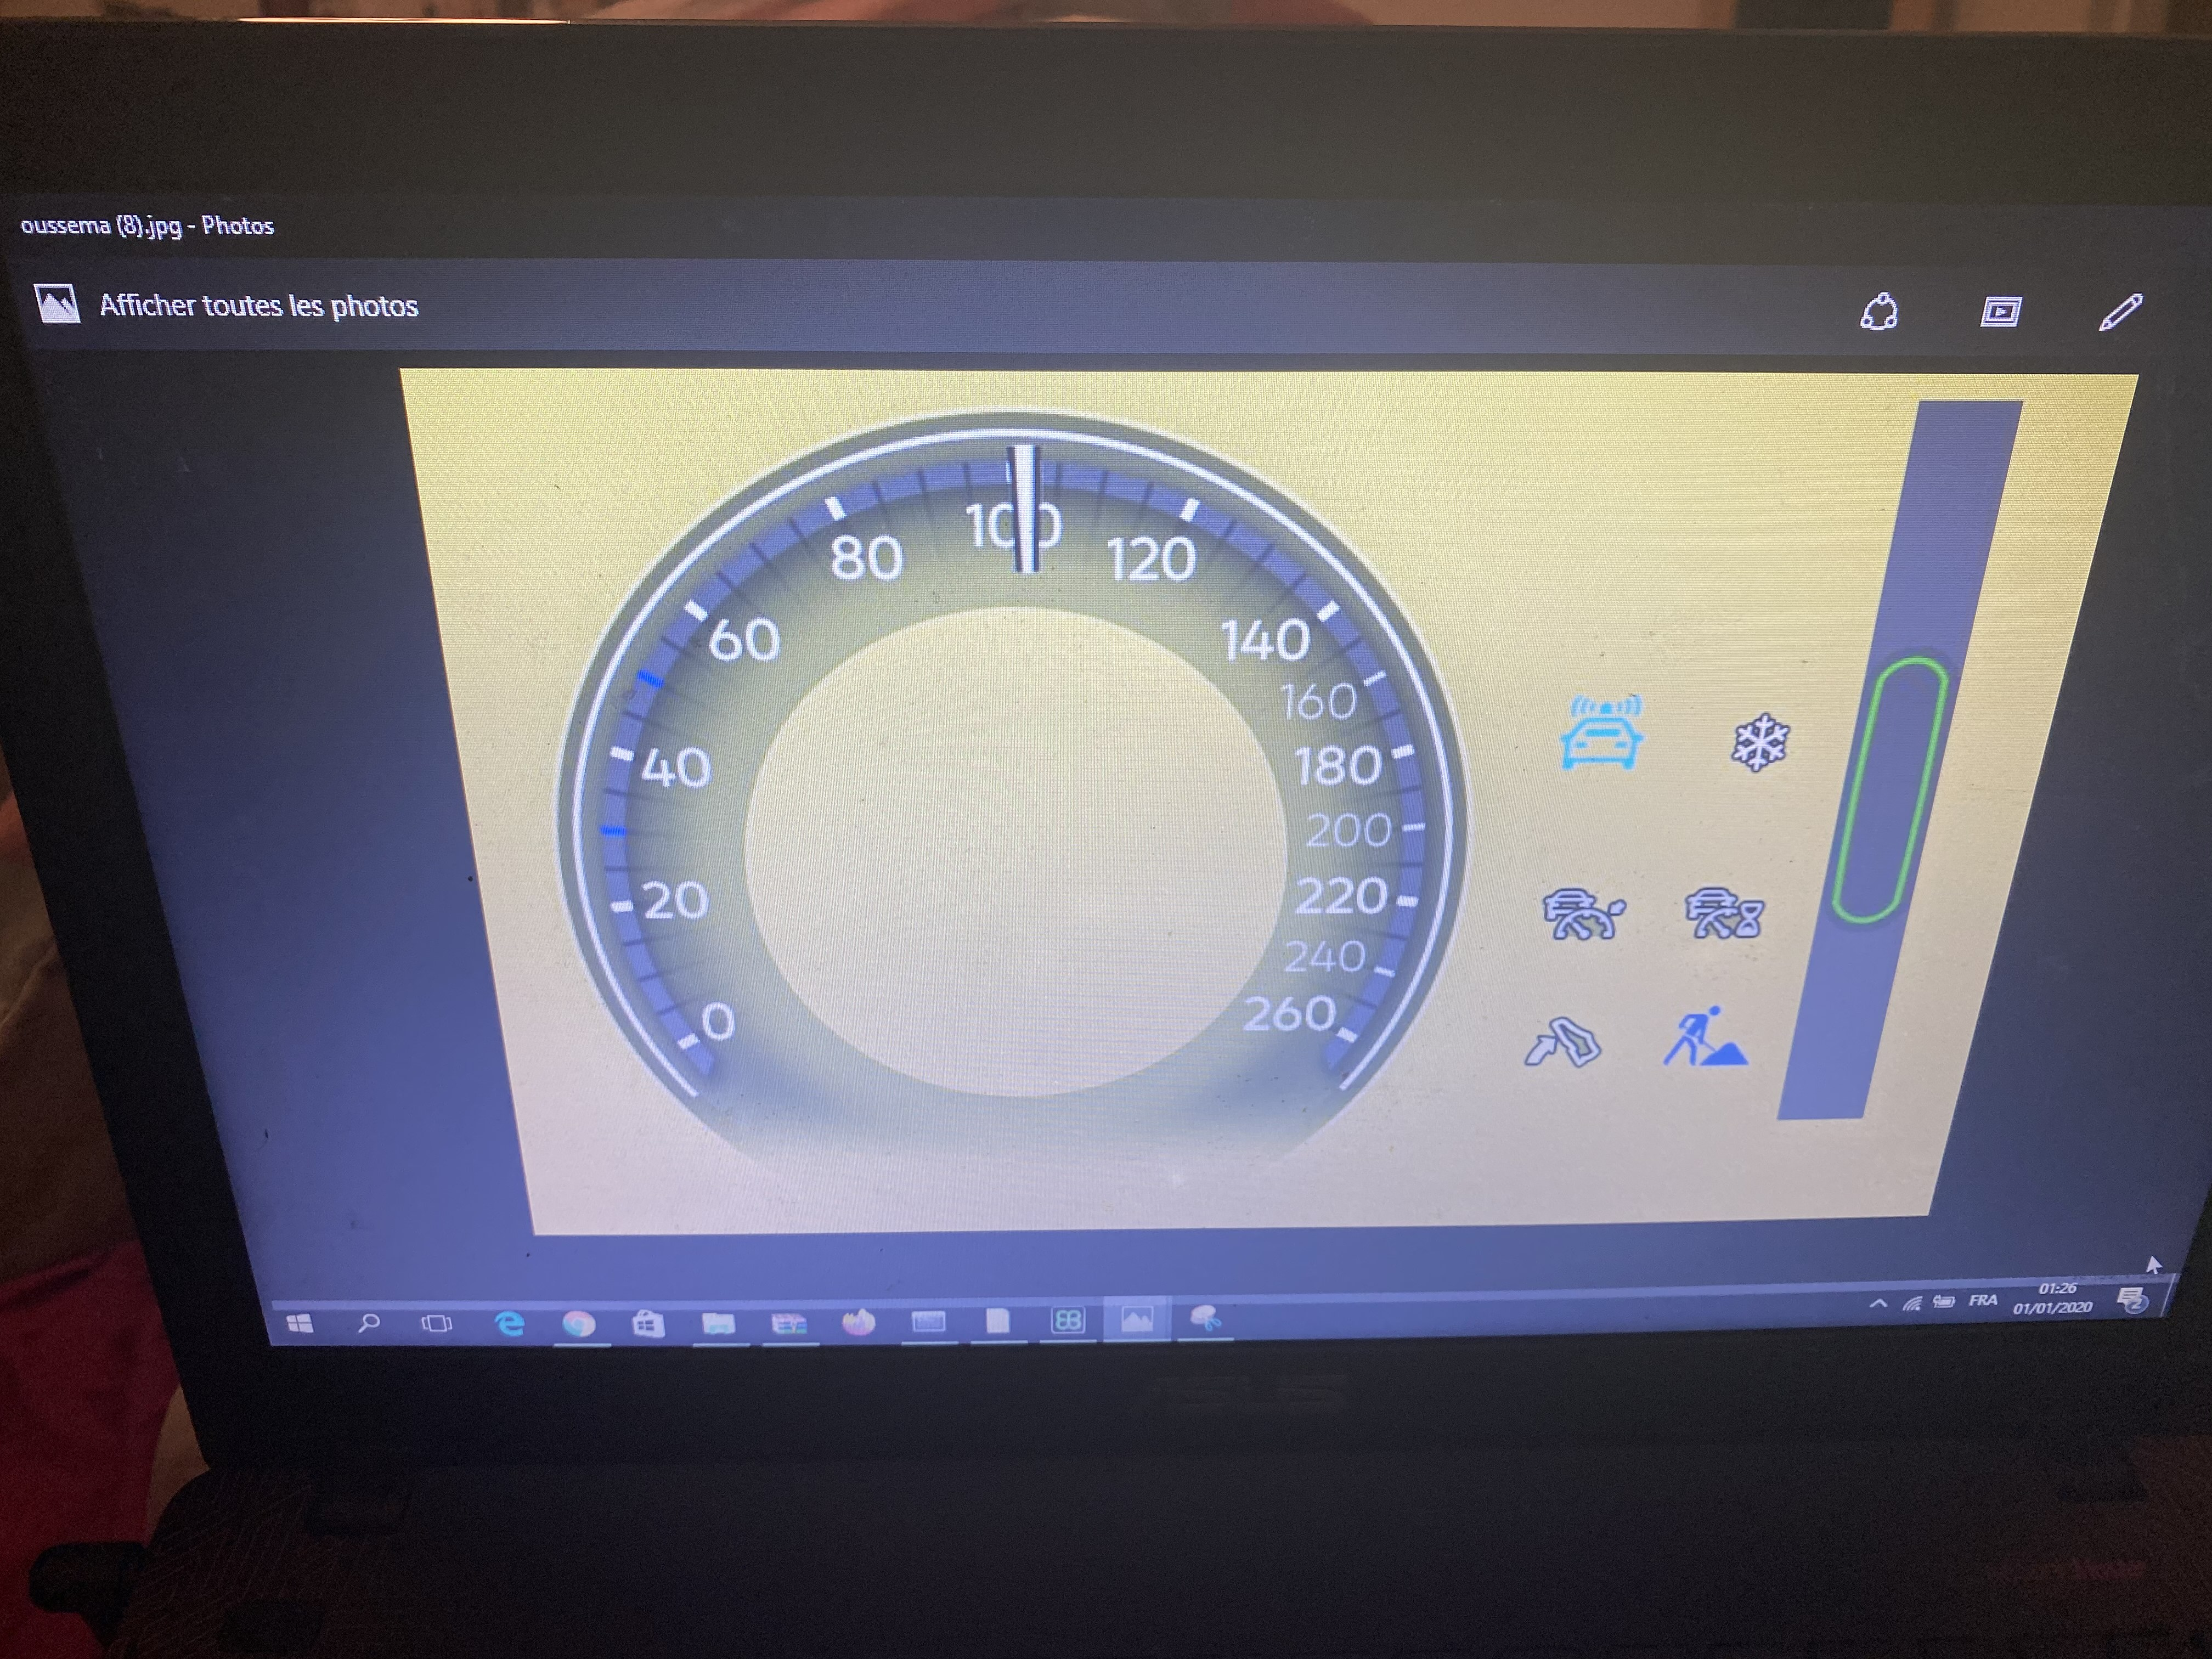ACCELERATOR: (1507, 993, 1629, 1087)
ACC_AKTIV: (1533, 871, 1648, 957)
ACC_WAITING: (1667, 868, 1787, 951)
CONSTRUCTION: (1656, 992, 1768, 1091)
EISSTERN: (1710, 694, 1801, 784)
SEV_INF: (1536, 678, 1663, 788)
SLIDER: (1824, 622, 1958, 962)
TUBE: (491, 413, 1482, 1182)
